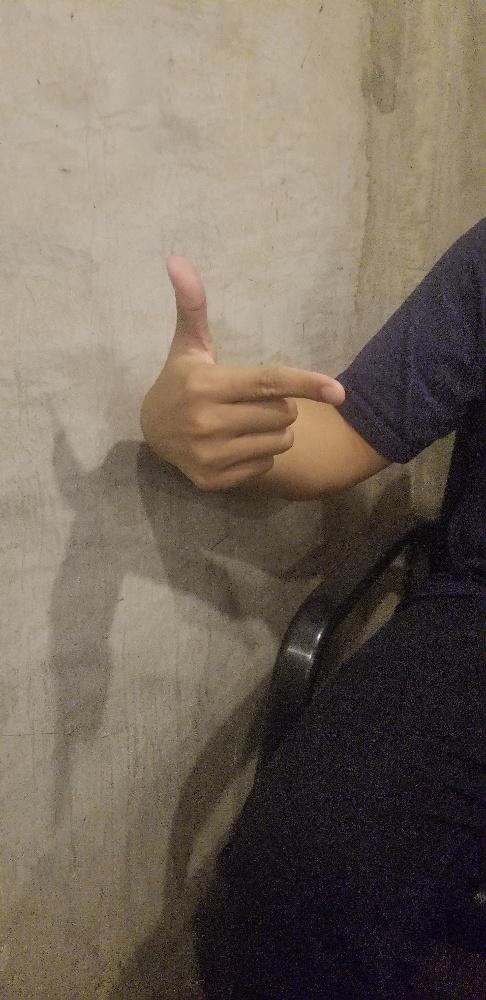g: (152, 255, 345, 487)
